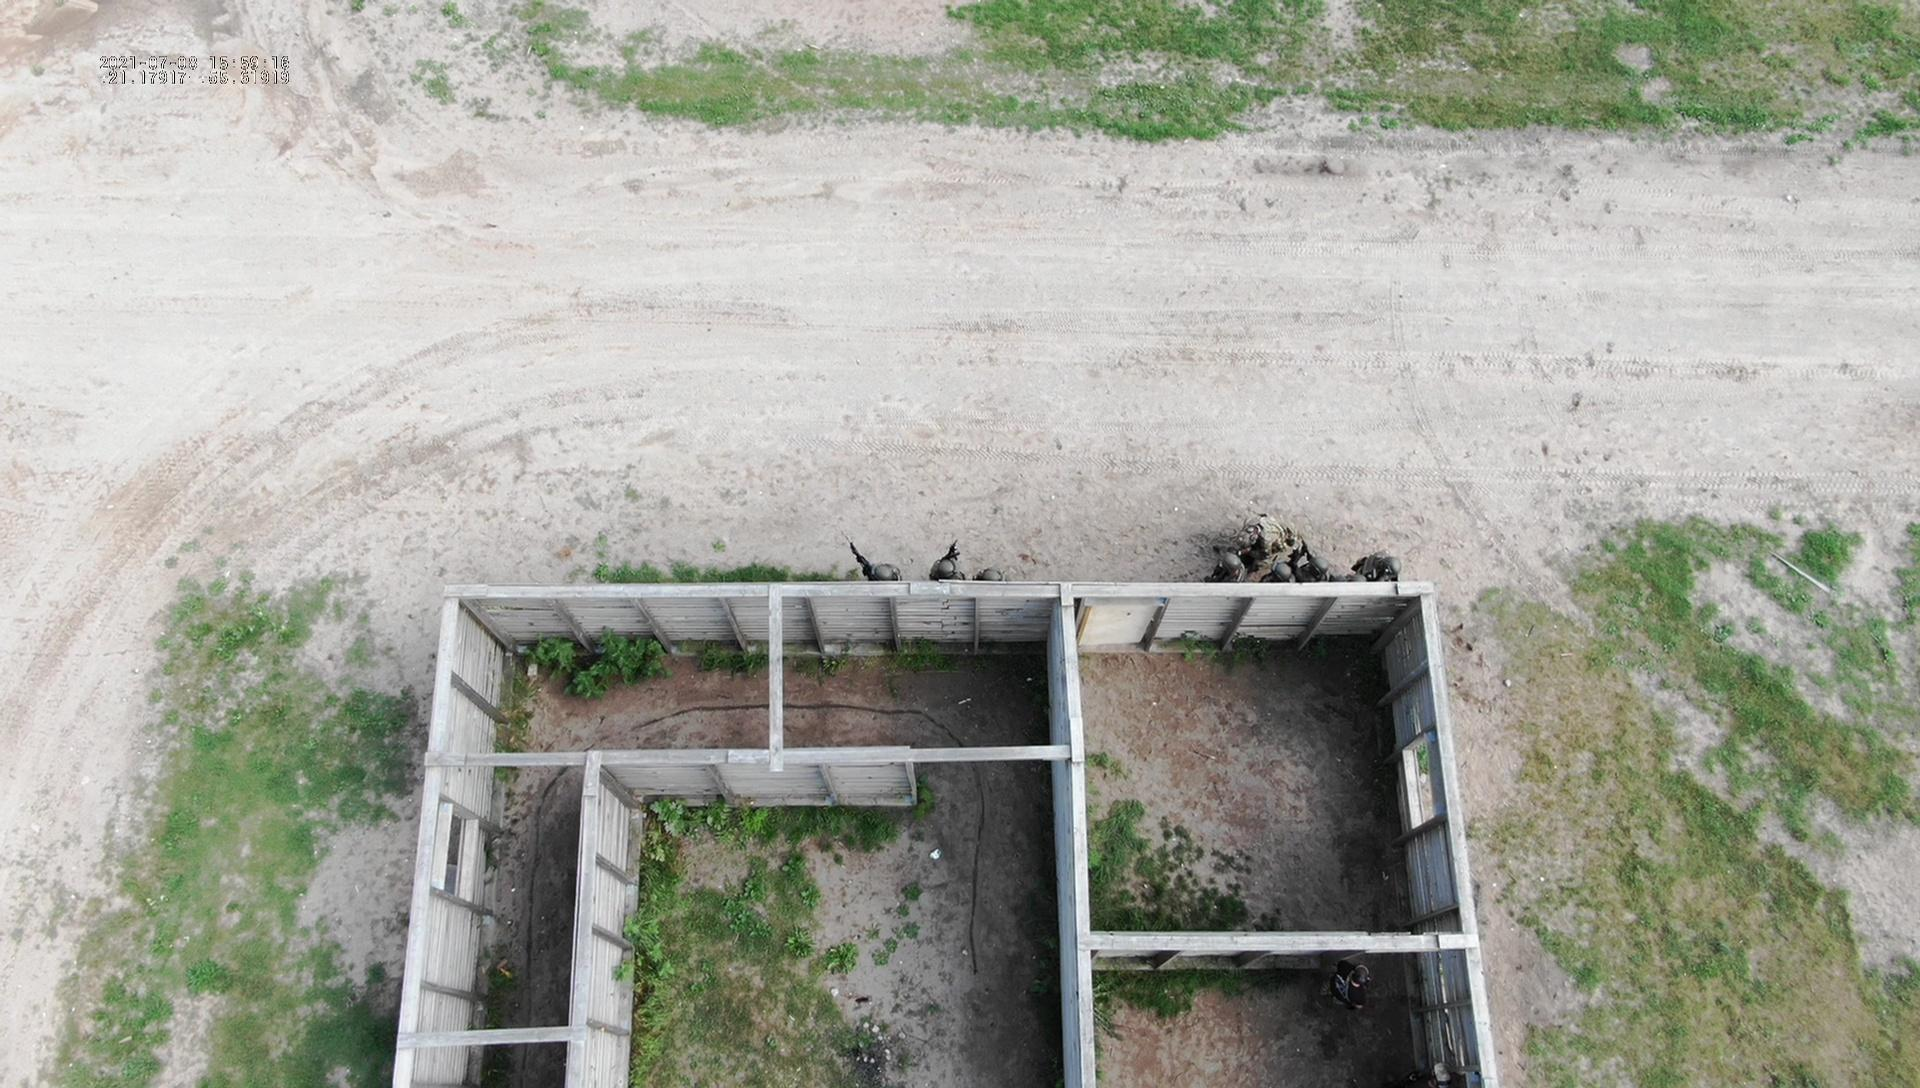Soldier: (845, 529, 906, 582), (1242, 509, 1294, 555), (1215, 543, 1257, 592), (927, 541, 964, 584), (1298, 542, 1331, 586), (1358, 554, 1408, 582)
